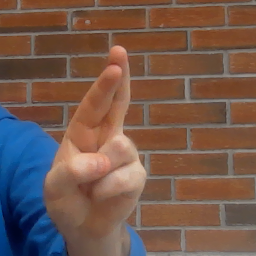R: (41, 43, 150, 226)
